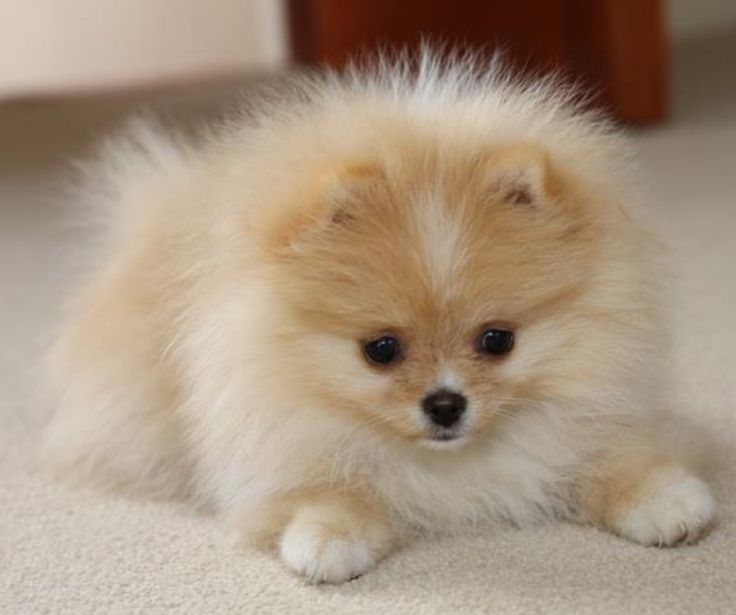pomeranian: (58, 46, 719, 590)
